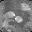people: (2, 19, 14, 30), (3, 11, 15, 18), (14, 16, 23, 23)
